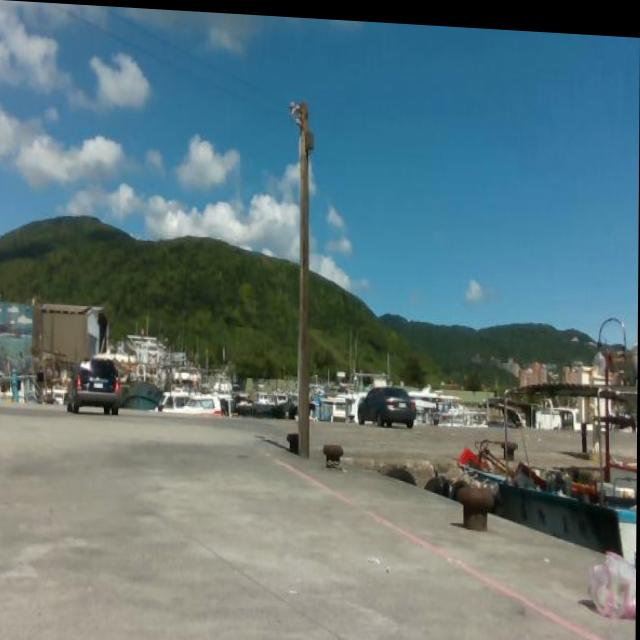pollute: (587, 542, 637, 615)
